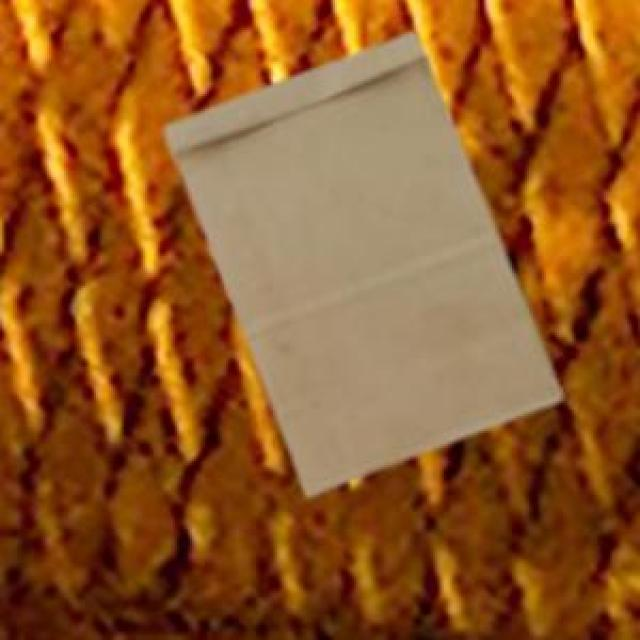paper: (162, 30, 557, 491)
